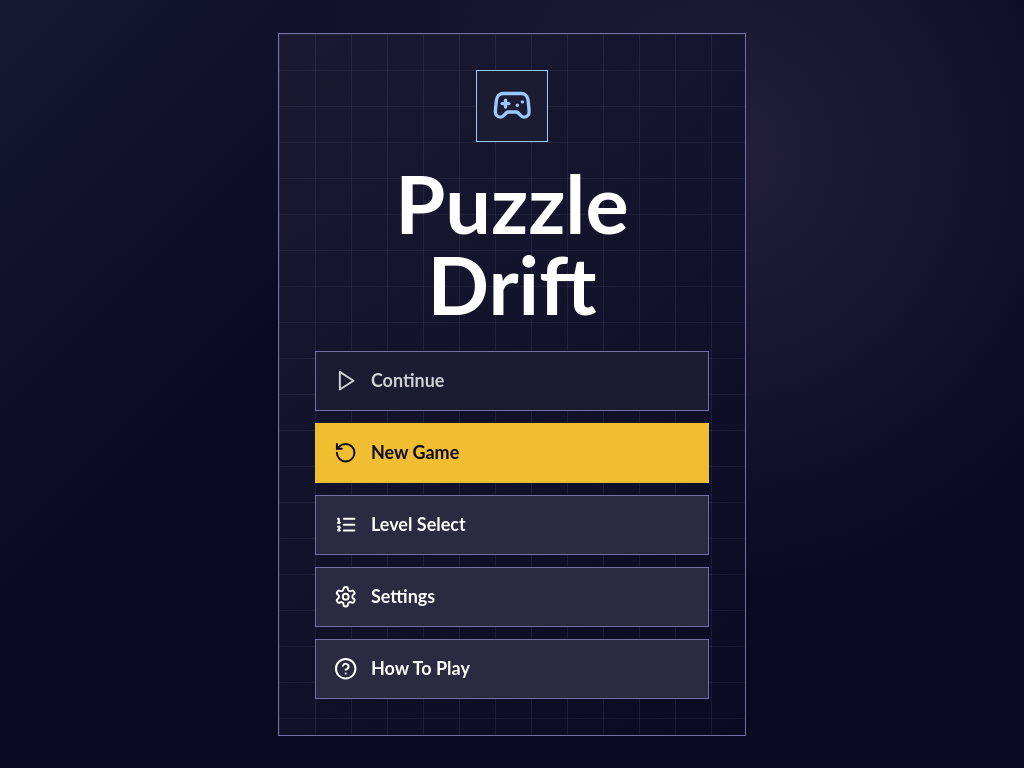
Test: App › renders the keyboard shortcuts section
Click the button "Settings": click(403, 596) [315,567,709,626]
(page scrolled)
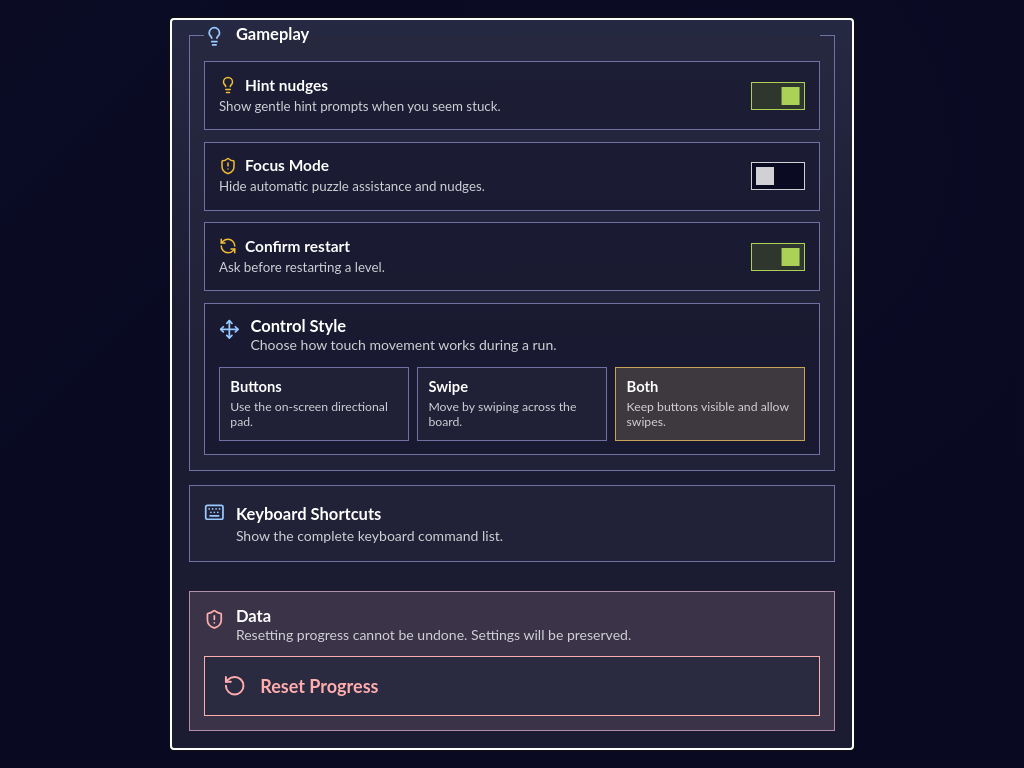
Click the button "Keyboard Shortcuts Show the complete keyboard command list.": click(309, 514) [204,500,820,546]
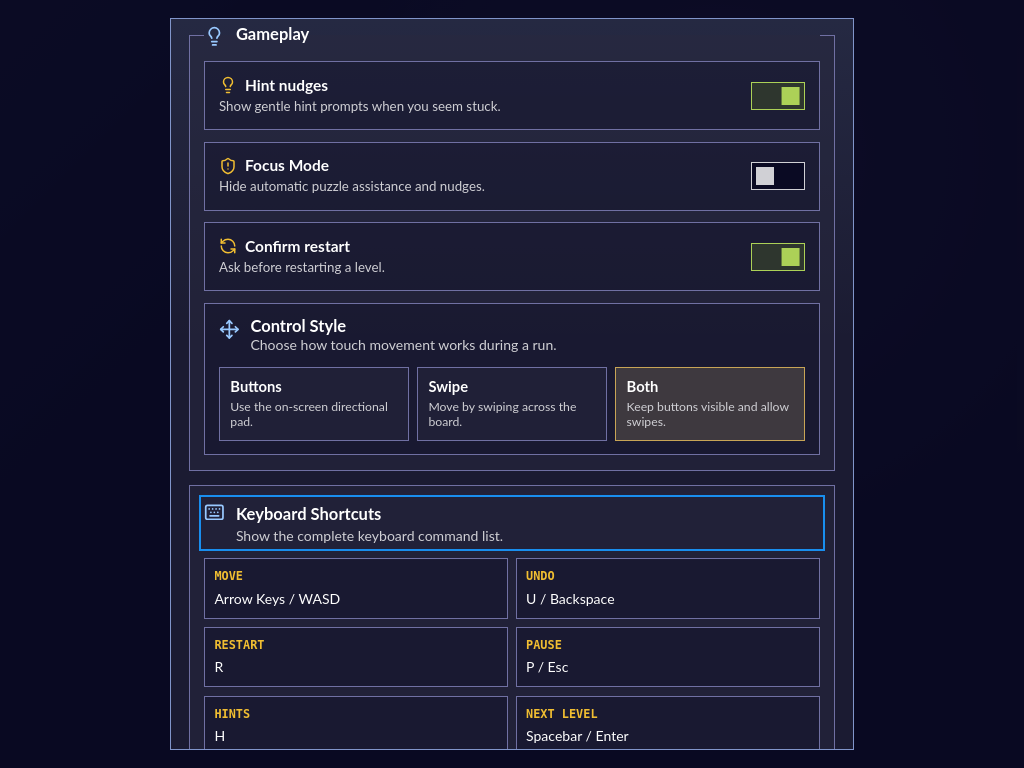
Now the text "Arrow Keys / WASD" is shown, box [214,590,340,607]
Now the text "U / Backspace" is shown, box [526,590,614,607]
Now the text "Spacebar / Enter" is shown, box [526,727,629,744]
